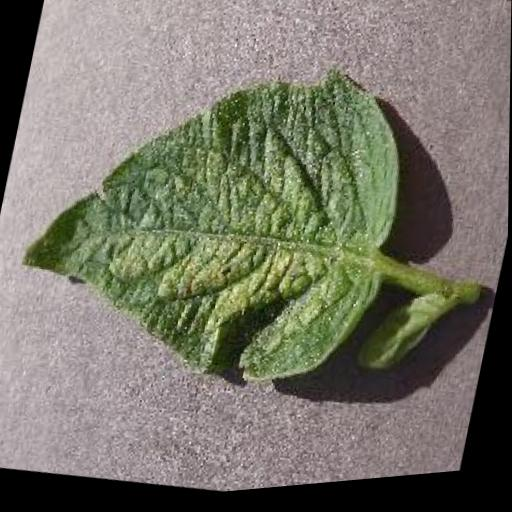Spider Mites: (0, 18, 426, 424)
